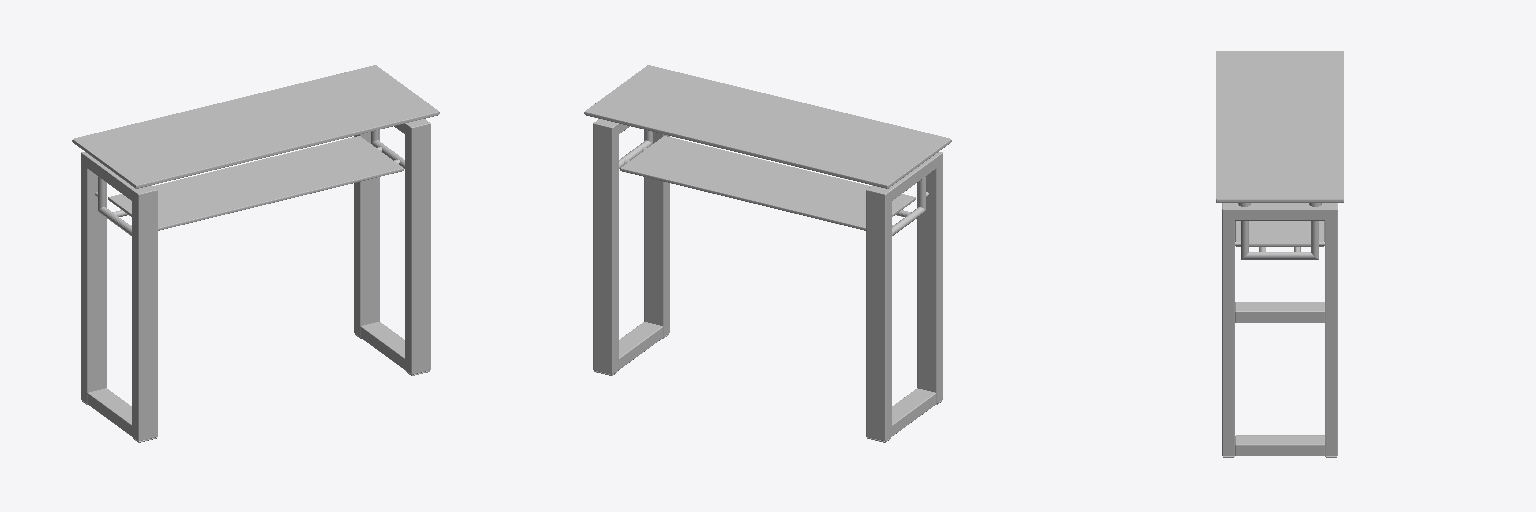
The model's file is table2.obj.
The picture shows the model from 3 angles: view 1: azimuth 30°, elevation 25°; view 2: azimuth 150°, elevation 25°; view 3: azimuth 270°, elevation 25°; orthographic projection.
Visible parts, largest first — view 1: 10ravens_3D_M_004_Modern_table_14; view 2: 10ravens_3D_M_004_Modern_table_14; view 3: 10ravens_3D_M_004_Modern_table_14.
Part boxes in pixels (bbox=[...]): 10ravens_3D_M_004_Modern_table_14: bbox=[72, 65, 439, 442]; 10ravens_3D_M_004_Modern_table_14: bbox=[584, 65, 951, 442]; 10ravens_3D_M_004_Modern_table_14: bbox=[1216, 51, 1343, 457].
Bounding box in the file's own units: 108 × 88.93 × 39.53.